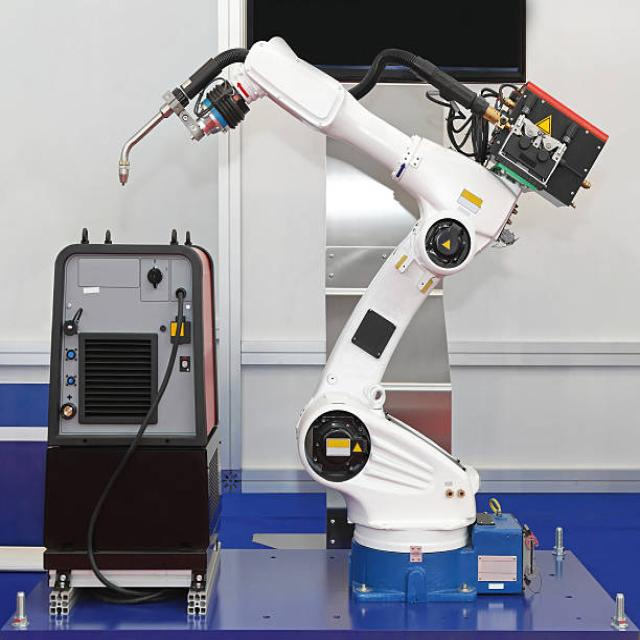Robotic-arm: (156, 33, 522, 557)
